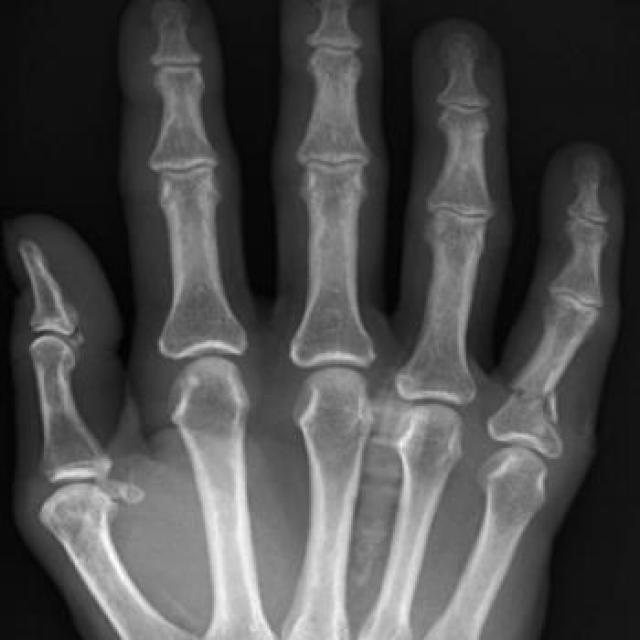Fracture: (499, 368, 571, 422)
